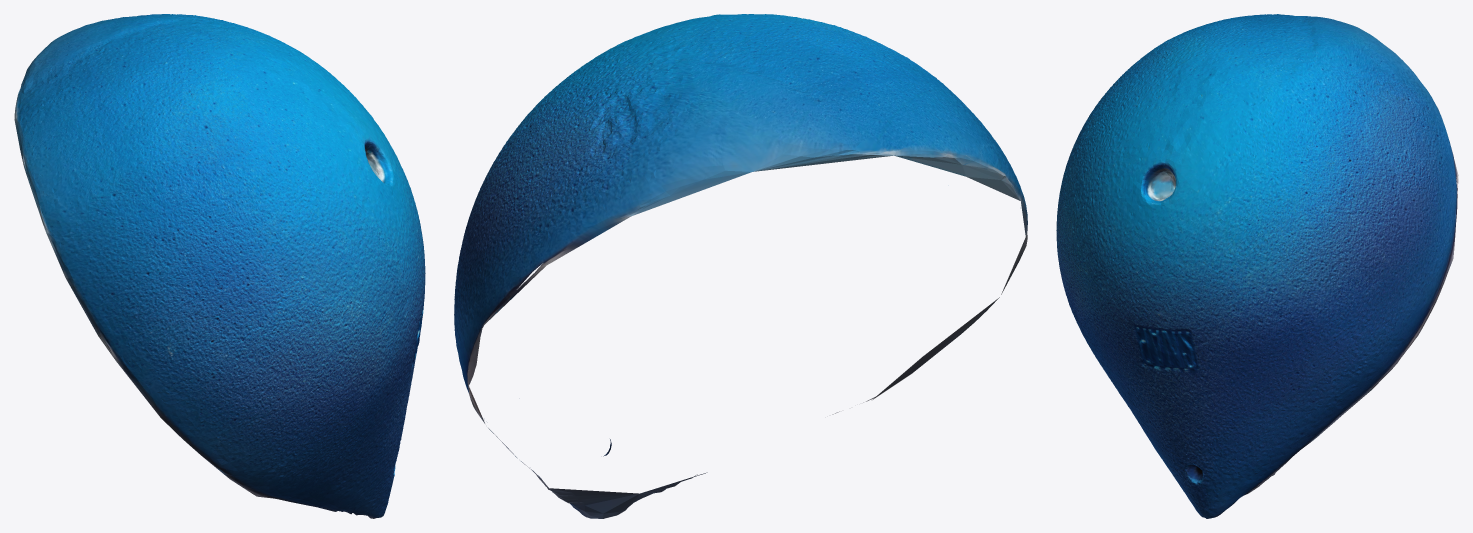
File: Snap_2_XXL_2.glb
3 views of the same model, side by side, from view 1: azimuth 30°, elevation 25°; view 2: azimuth 150°, elevation 25°; view 3: azimuth 270°, elevation 25° (orthographic). The views are drawn at different scales.
Size of the model in its own units: 0.9592 by 1.13 by 0.9975.
Materials: 1 (1 with a texture image).
